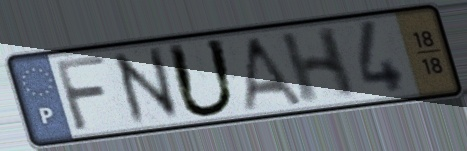4: (358, 18, 408, 99)
A: (239, 34, 308, 114)
F: (51, 53, 112, 134)
H: (277, 23, 359, 107)
N: (107, 43, 186, 129)
U: (163, 36, 241, 121)
